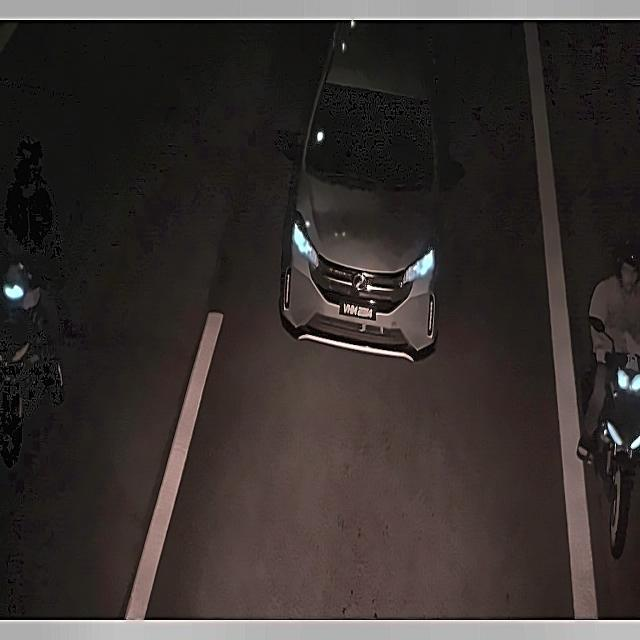car: (335, 295, 384, 326)
